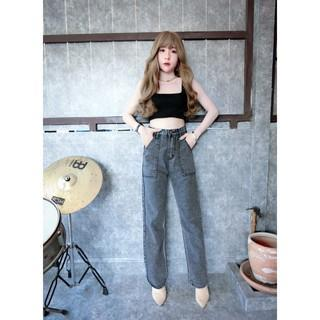pants: (140, 129, 210, 287)
